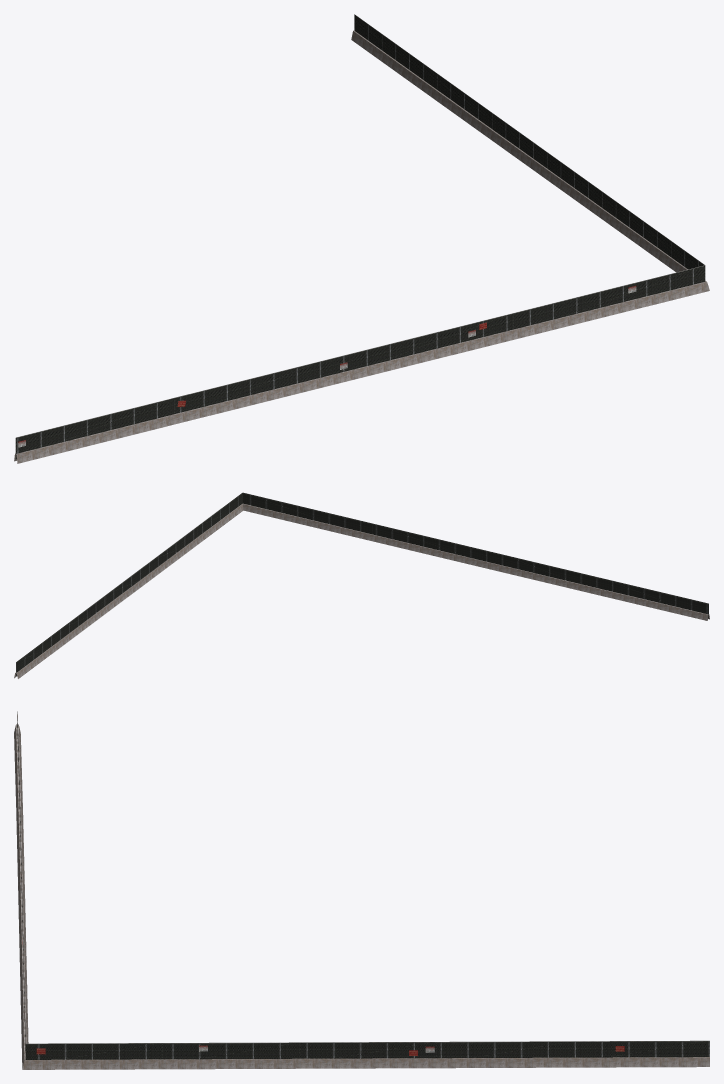
File: a51_extfence04.obj
3 views of the same model, one above another, from view 1: azimuth 30°, elevation 25°; view 2: azimuth 150°, elevation 25°; view 3: azimuth 270°, elevation 25° (orthographic). The views are drawn at different scales.
Visible parts, largest first — view 1: a51_extfence04; view 2: a51_extfence04; view 3: a51_extfence04.
Boxes of the visible parts, bbox=[...] form: a51_extfence04: bbox=[14, 14, 709, 463]; a51_extfence04: bbox=[14, 492, 709, 678]; a51_extfence04: bbox=[14, 711, 709, 1069].
Bounding box in the file's own units: 124 × 4.28 × 108.
4 materials, 4 textured.
